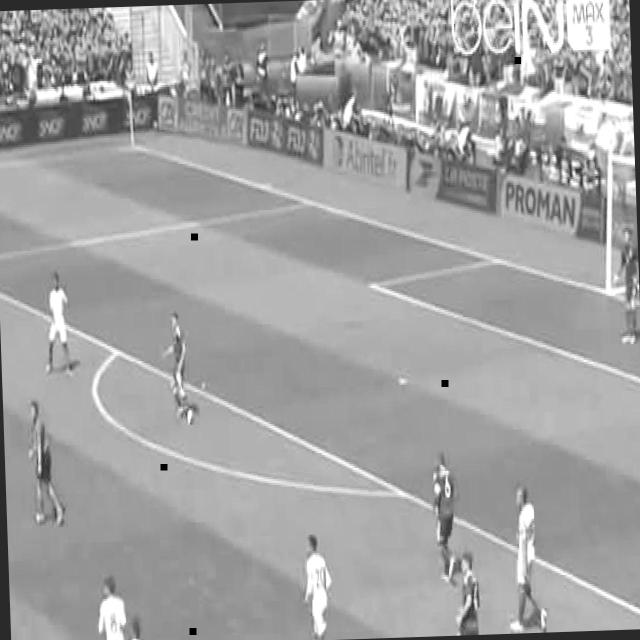player-white: (504, 482, 550, 634), (297, 529, 341, 640), (27, 399, 64, 527), (161, 310, 194, 425), (611, 224, 640, 345), (432, 449, 458, 582), (42, 271, 72, 377), (449, 549, 478, 636), (95, 573, 126, 640), (114, 615, 149, 640)
